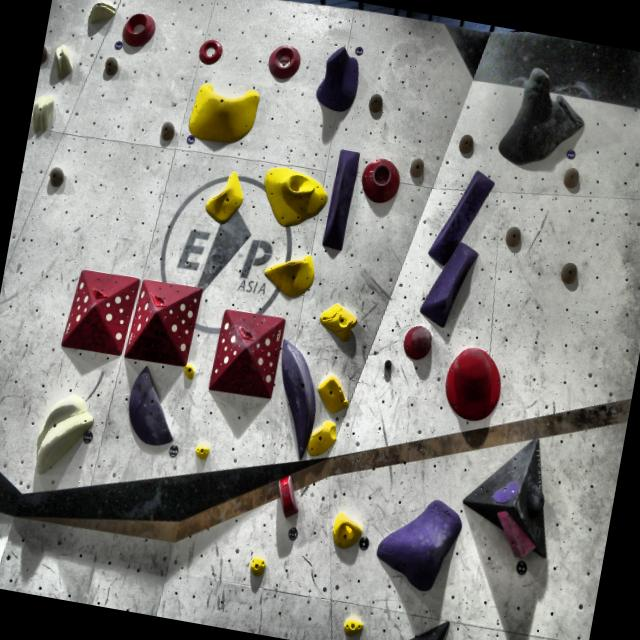Hold: (360, 488, 460, 592), (424, 156, 501, 276), (495, 65, 586, 164), (262, 332, 328, 463), (27, 382, 98, 486), (416, 235, 491, 330), (181, 80, 264, 154), (118, 364, 186, 454), (314, 143, 366, 258), (254, 164, 332, 238), (436, 342, 506, 421), (312, 42, 366, 120), (256, 244, 320, 303), (490, 512, 542, 568), (312, 296, 366, 348), (202, 166, 246, 227), (358, 153, 404, 209), (314, 366, 355, 418), (266, 472, 308, 520), (390, 316, 438, 354), (305, 413, 341, 462), (120, 8, 157, 51), (264, 40, 302, 81), (48, 40, 79, 86), (481, 472, 521, 506), (30, 92, 60, 137), (522, 473, 550, 518), (337, 604, 369, 640), (327, 512, 361, 544), (84, 0, 121, 26), (197, 38, 224, 68), (190, 436, 218, 464), (242, 554, 272, 580), (178, 358, 200, 386), (234, 320, 261, 342), (146, 290, 172, 310), (88, 284, 110, 304)
